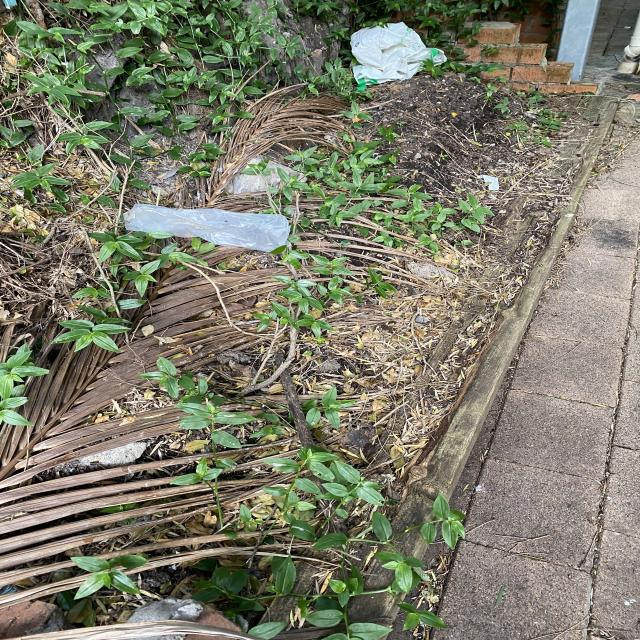bag: (351, 18, 449, 90)
cloth: (129, 203, 294, 249)
